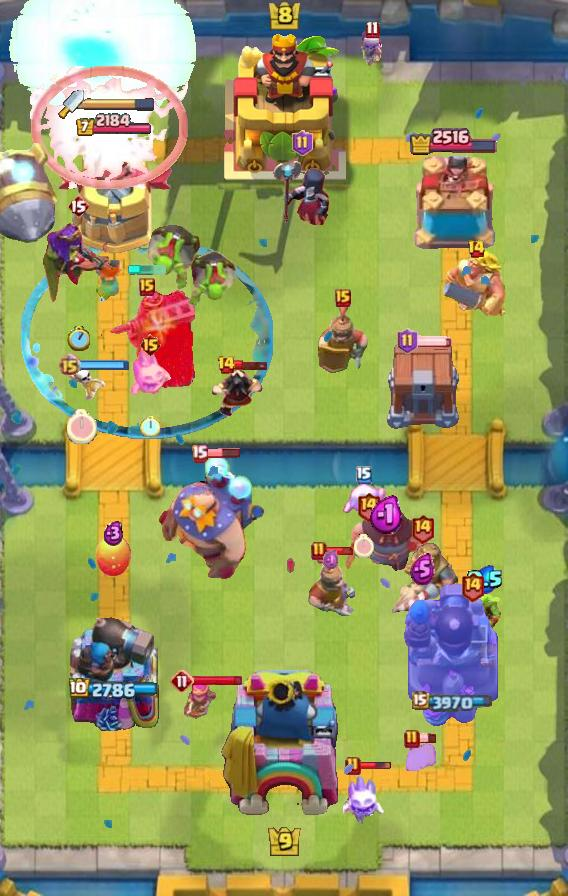bar: (55, 142, 173, 256)
bar-level: (145, 222, 203, 294), (188, 248, 238, 308)
barbarian-evolution: (30, 66, 188, 189)
barbarian-hut: (38, 220, 118, 308)
bomb: (384, 344, 462, 430)
cannon: (179, 679, 217, 723)
earthquake: (318, 299, 368, 375), (307, 552, 355, 616)
electro-spirit: (369, 495, 405, 535), (466, 565, 504, 594), (410, 553, 435, 585), (103, 520, 124, 546), (323, 549, 341, 571)
elixir: (67, 408, 97, 443), (67, 325, 90, 350), (354, 534, 374, 558), (140, 415, 160, 437)
emote: (193, 674, 244, 687), (78, 359, 130, 371), (415, 335, 453, 347), (233, 359, 269, 371), (205, 447, 241, 459), (358, 761, 392, 771), (324, 546, 356, 556), (418, 733, 438, 744)
goblin: (356, 31, 388, 71)
goblin-hut: (441, 247, 511, 321)
heal-spirit: (57, 363, 107, 401)
hog: (93, 534, 133, 578)
hog-rider: (88, 254, 126, 306)
ice-spirit: (127, 265, 167, 275)
ice-spirit-evolution: (403, 742, 439, 774)
inferno-tower: (99, 287, 195, 389)
king-tower: (219, 670, 349, 826), (222, 31, 346, 181)
king-tower-bar: (84, 97, 156, 111)
little-prince: (158, 455, 264, 581)
lumberjack: (210, 367, 264, 419)
mega-knight: (3, 0, 200, 128)
mirror: (343, 771, 387, 825), (129, 348, 171, 398), (339, 482, 389, 520)
pad_0: (21, 236, 273, 440)
queen-tower: (407, 156, 499, 256)
ram-rider: (379, 534, 465, 624)
rascal-boy: (272, 158, 332, 228)
royal-hog: (345, 506, 429, 574)
selected: (408, 126, 498, 156), (68, 678, 159, 701), (75, 113, 153, 139), (413, 691, 496, 713)
text: (355, 490, 380, 521), (410, 513, 435, 544), (460, 571, 485, 602), (170, 669, 194, 693), (139, 333, 162, 357), (58, 352, 81, 376), (291, 130, 312, 156), (398, 328, 419, 354), (67, 194, 89, 218), (466, 239, 485, 259), (216, 355, 235, 375), (192, 444, 209, 463), (311, 541, 327, 561), (404, 729, 420, 749), (345, 756, 361, 776), (139, 278, 155, 296), (335, 289, 351, 307), (356, 466, 372, 484), (365, 21, 380, 39)
tower-bar: (402, 579, 504, 731), (68, 611, 160, 731)
x-bow: (1, 141, 59, 245)
zap: (469, 586, 503, 629)
